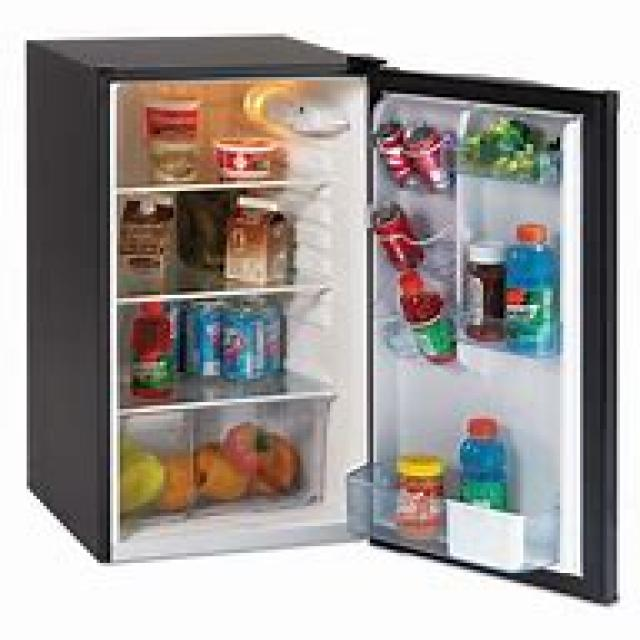fridge: (23, 30, 620, 603)
